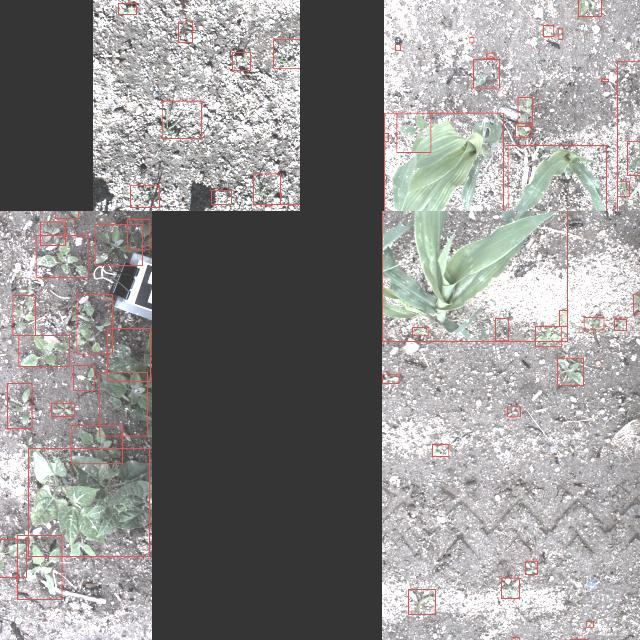crop: (381, 211, 566, 341), (28, 448, 148, 556), (383, 112, 502, 211), (507, 144, 606, 211)
weed: (99, 371, 147, 435), (16, 535, 62, 599), (108, 328, 150, 380), (36, 235, 88, 277), (76, 293, 112, 353), (94, 223, 142, 265), (70, 425, 121, 463), (19, 334, 70, 366), (161, 100, 201, 138), (396, 112, 430, 152), (6, 382, 32, 428), (0, 539, 26, 577), (12, 295, 36, 335), (252, 172, 280, 204), (273, 38, 300, 68), (473, 58, 499, 88), (557, 357, 583, 385), (128, 218, 150, 250), (408, 588, 434, 614), (129, 185, 159, 207), (40, 221, 66, 245), (74, 364, 95, 390), (535, 326, 561, 346), (516, 96, 532, 125), (627, 141, 640, 175), (577, 0, 601, 15), (501, 578, 519, 598), (232, 52, 250, 70), (51, 402, 74, 416), (494, 318, 508, 340), (211, 190, 231, 204), (178, 21, 192, 41), (583, 317, 603, 329), (515, 122, 531, 136), (616, 180, 630, 196), (117, 2, 135, 14), (432, 444, 448, 456), (525, 560, 537, 574), (412, 326, 428, 336), (382, 373, 398, 383), (542, 24, 554, 36), (506, 406, 520, 416), (633, 294, 640, 313), (614, 318, 626, 329), (559, 310, 567, 326), (486, 52, 494, 58), (586, 620, 594, 626), (558, 28, 562, 38), (383, 132, 387, 142), (394, 44, 400, 50), (569, 638, 587, 640), (469, 36, 473, 42), (511, 637, 518, 640), (602, 78, 608, 80)
